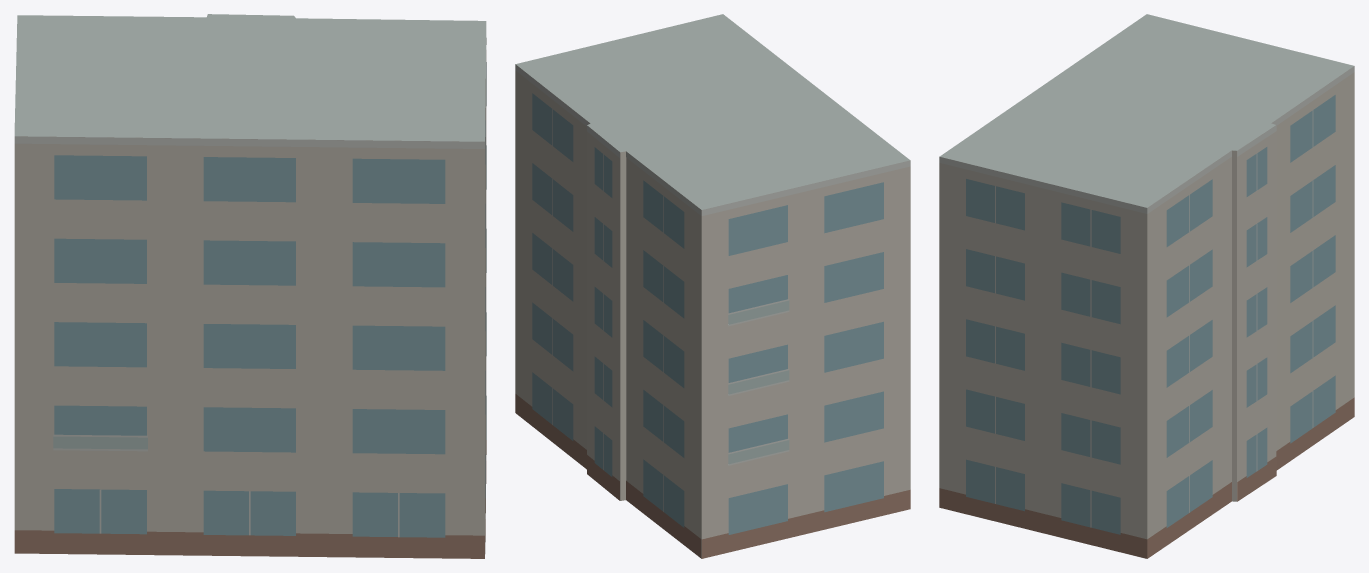
The model's file is survey-upis-33003931.glb.
3 renders of one model, left to right at view 1: azimuth 30°, elevation 25°; view 2: azimuth 150°, elevation 25°; view 3: azimuth 270°, elevation 25°, orthographic. The views are drawn at different scales.
Visible parts, largest first — view 1: survey-upis-33003931.tmp; view 2: survey-upis-33003931.tmp; view 3: survey-upis-33003931.tmp.
Boxes of the visible parts, x1,y1,x2,y2 form: survey-upis-33003931.tmp: (14, 14, 486, 558); survey-upis-33003931.tmp: (515, 14, 910, 558); survey-upis-33003931.tmp: (939, 14, 1354, 558).
Bounding box in the file's own units: 16.48 × 13.9 × 14.91.
